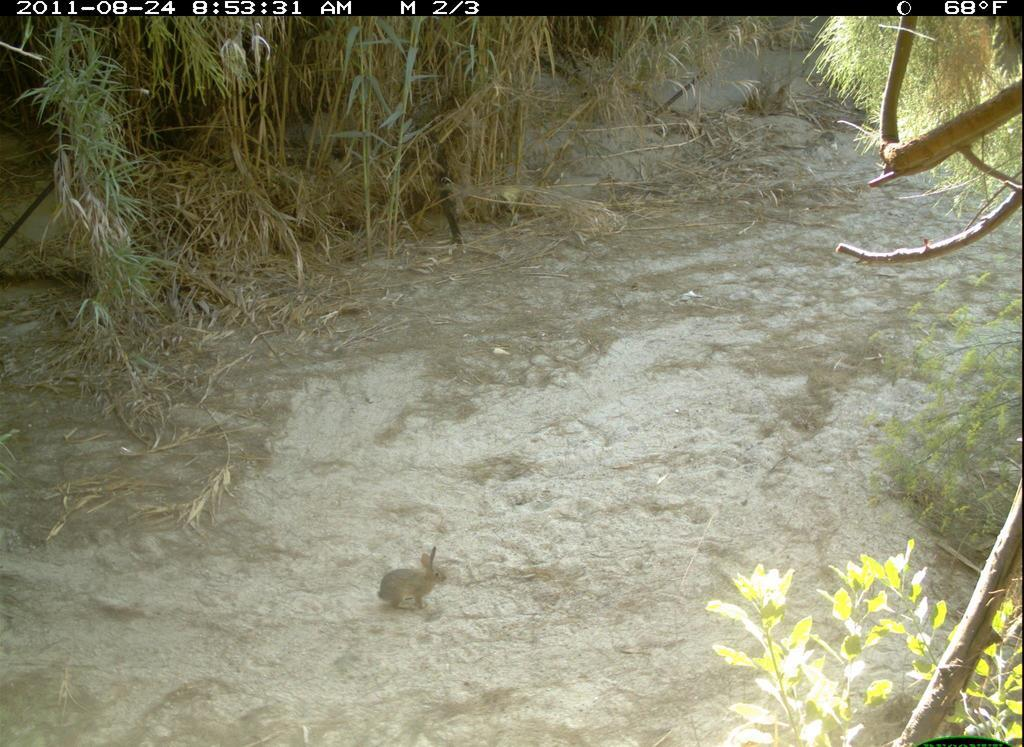rabbit: (367, 529, 468, 639)
